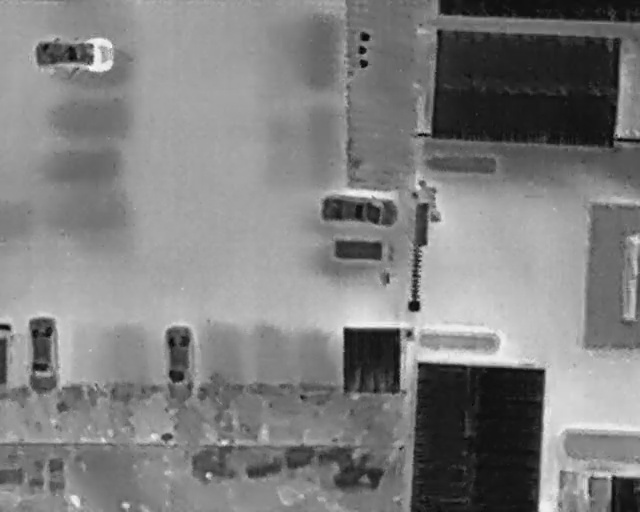Car: (317, 189, 401, 230), (33, 35, 115, 75), (27, 316, 61, 392), (165, 323, 194, 386), (0, 322, 14, 387)
